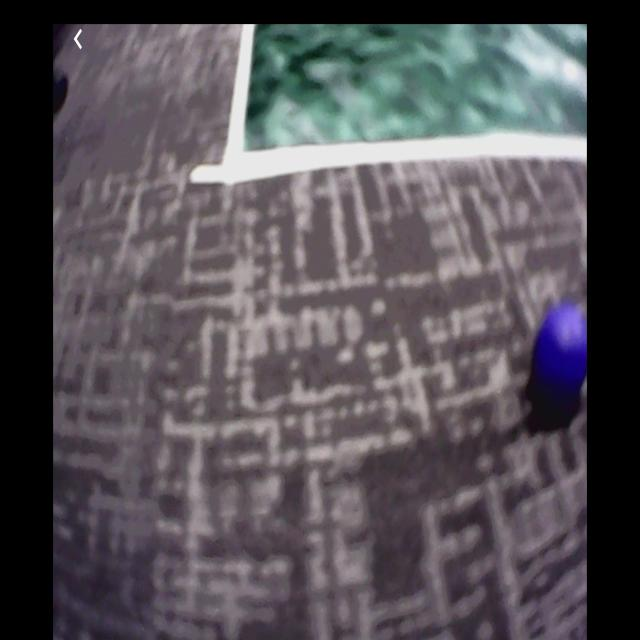ball: (536, 308, 588, 397)
